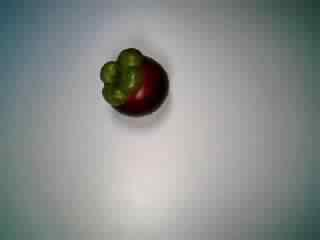mangosteen: (92, 45, 178, 119)
